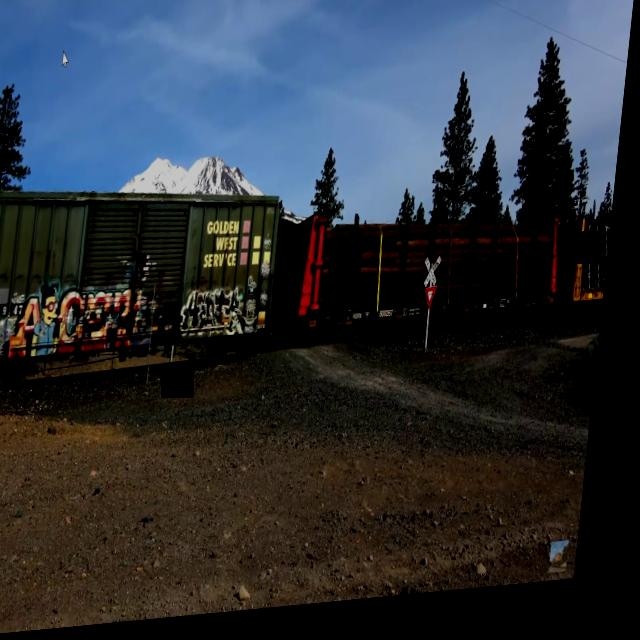boxcar: (0, 156, 294, 391)
cargo: (326, 208, 563, 321), (588, 231, 617, 301)
flatcar_bulkhead: (286, 196, 581, 347), (560, 220, 618, 328)
